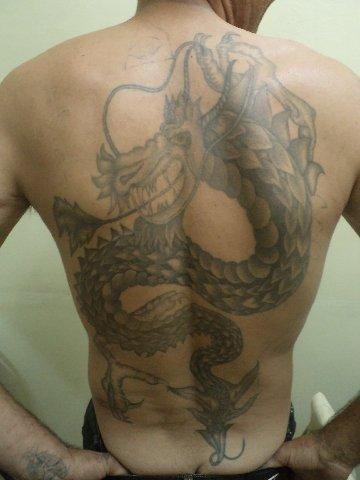tatu6_drakon: (48, 20, 355, 472)
